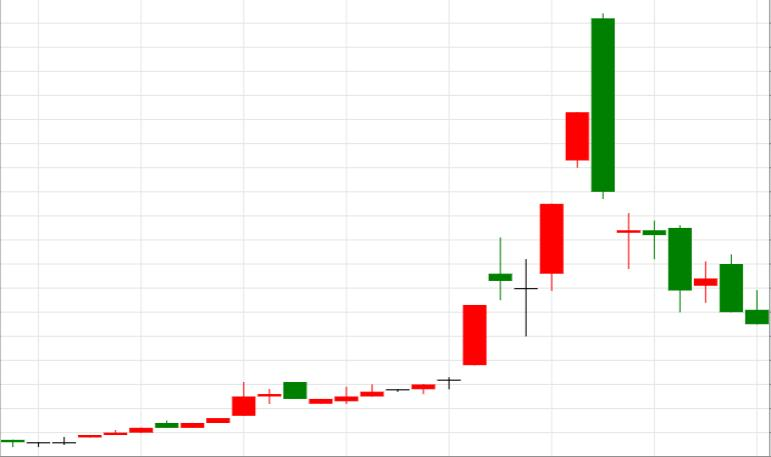bearish_engulfing_fall: (411, 14, 615, 394)
